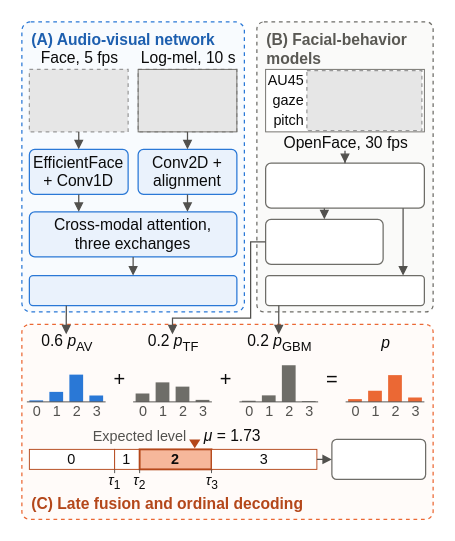
Some shapes in this 455 by 541 pixel diagram are drawn without their labels. Grey dashed boxes stand in for pictures. Each missing label, with the centre of its shape:
"20 segments × (mean, std)" belongs at pixel 344 185.
"Attention pooling" belongs at pixel 132 290.
"Gradient boosting" belongs at pixel 344 290.
"Level 2, engaged" belongs at pixel 378 458.
"Segment Transformer" belongs at pixel 323 241.
